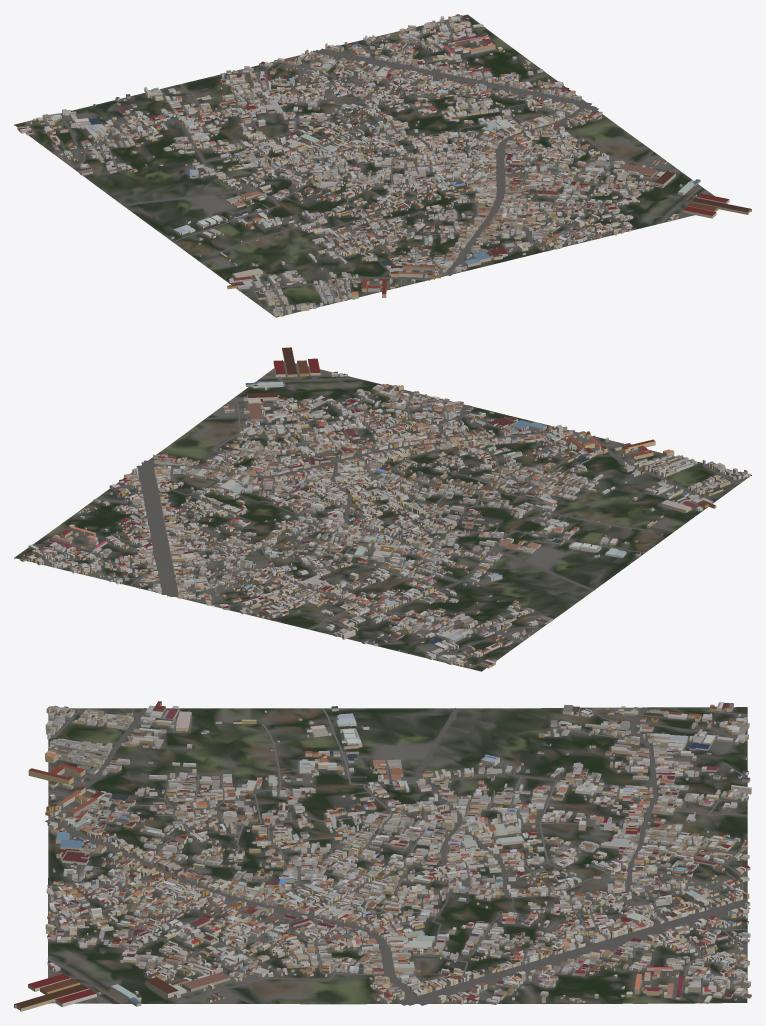
The picture shows the model from 3 angles, top to bottom: view 1: azimuth 30°, elevation 25°; view 2: azimuth 150°, elevation 25°; view 3: azimuth 270°, elevation 25°; orthographic projection. The views are drawn at different scales.
Visible parts, largest first — view 1: buildings, ground, roads; view 2: buildings, ground, roads; view 3: buildings, ground, roads.
Boxes of the visible parts, bbox=[...] form: buildings: bbox=[17, 14, 751, 316]; ground: bbox=[14, 14, 719, 317]; roads: bbox=[26, 19, 701, 315]; buildings: bbox=[20, 347, 750, 668]; ground: bbox=[14, 361, 751, 671]; roads: bbox=[32, 377, 742, 668]; buildings: bbox=[14, 701, 751, 1011]; ground: bbox=[48, 707, 747, 1004]; roads: bbox=[45, 707, 750, 1005].
Size of the model in its own units: 1458 by 21.34 by 1478.
